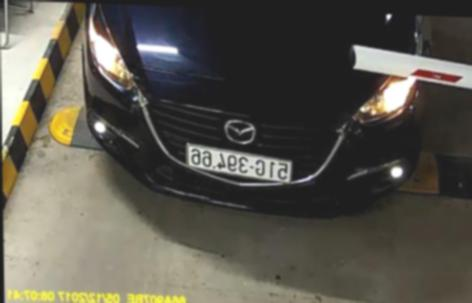License_Plate: (182, 143, 294, 183)
